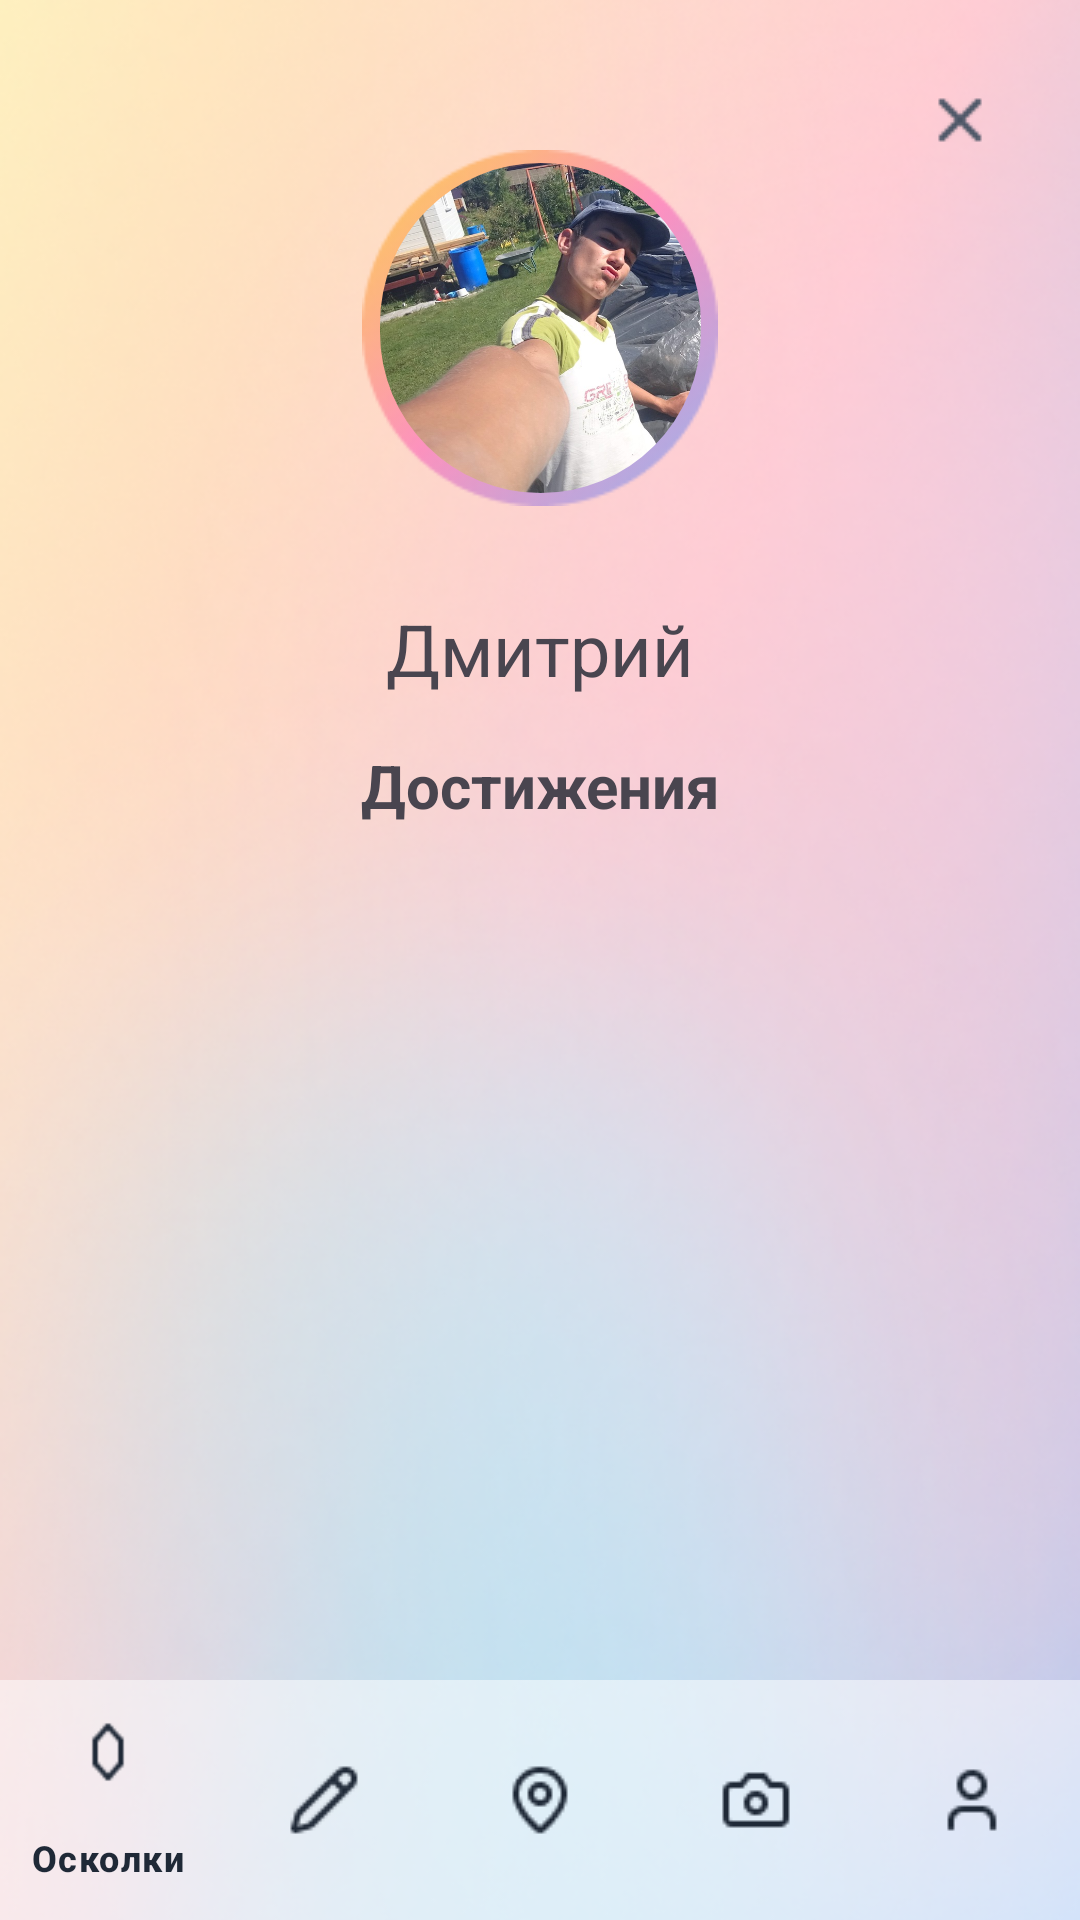

Named icons in this screenshot (1080x1920) and their centers, (x=x, y=y):
Выйти: (x=960, y=120)
